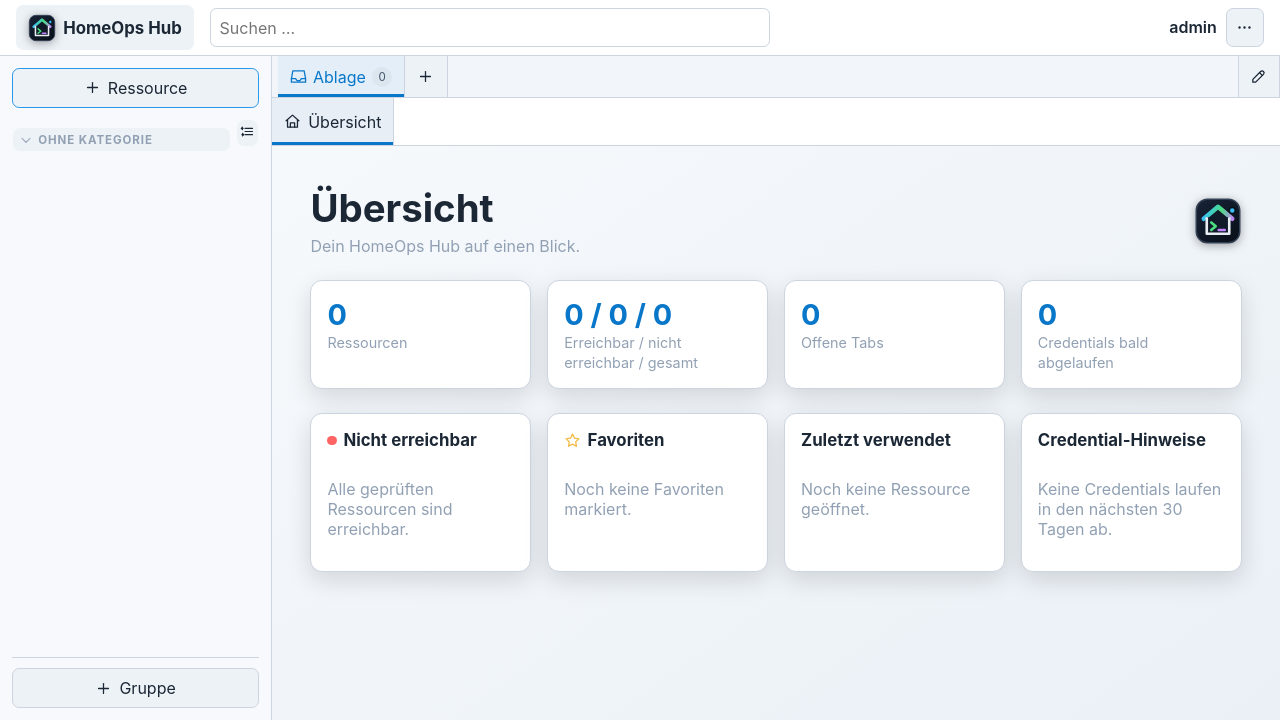
Test: resource category creation › creates and assigns a group while saving a resource
Later steps or results of the test are not shown.
Expected: the field with placeholder "Suchen …" is shown, 210,8 -> 770,47
Click the button "Ressource".
click(136, 88)  # box 12,68 -> 259,108
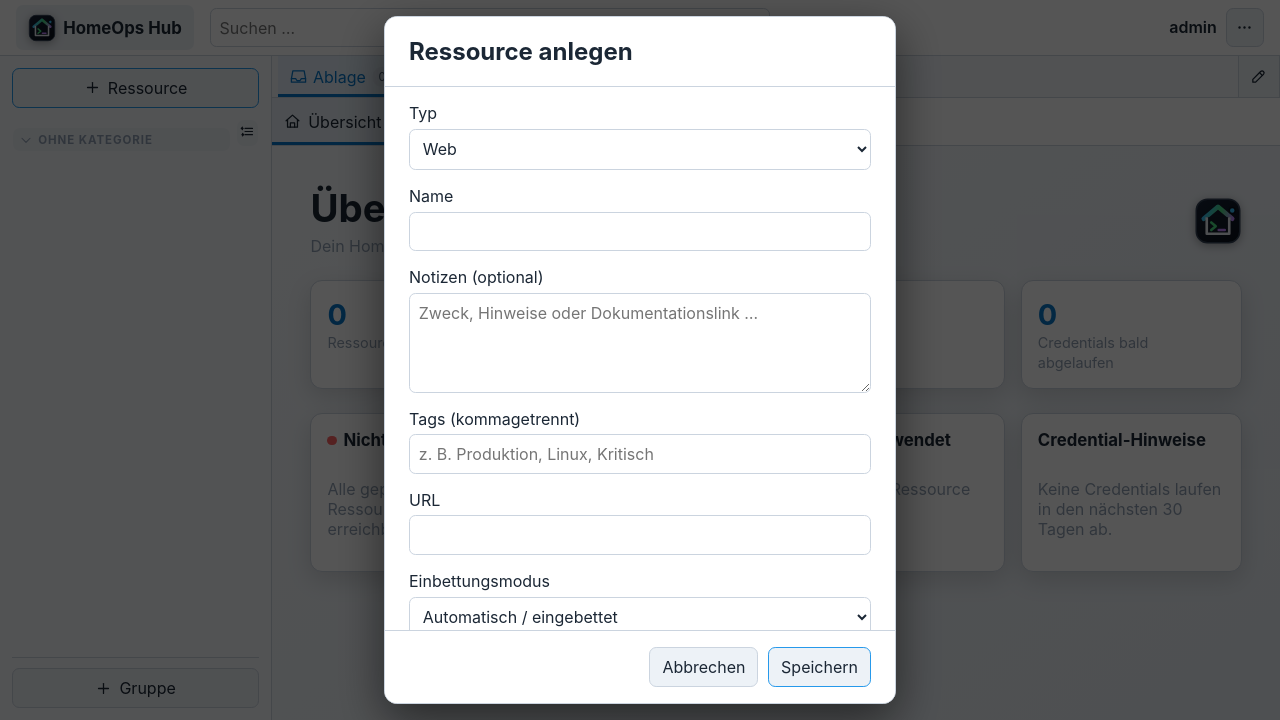
Expected: the header "Ressource anlegen" is shown, 385,17 -> 895,87
Expected: the element with class "resource-editor-body" is shown, 385,87 -> 895,630
Expected: the footer with class "actions" is shown, 385,630 -> 895,703
